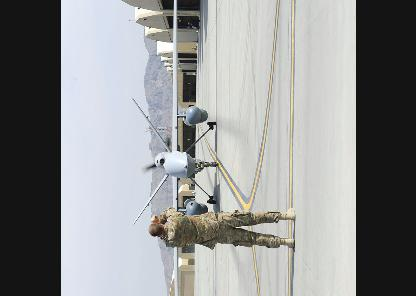MQ9: (130, 0, 219, 295)
